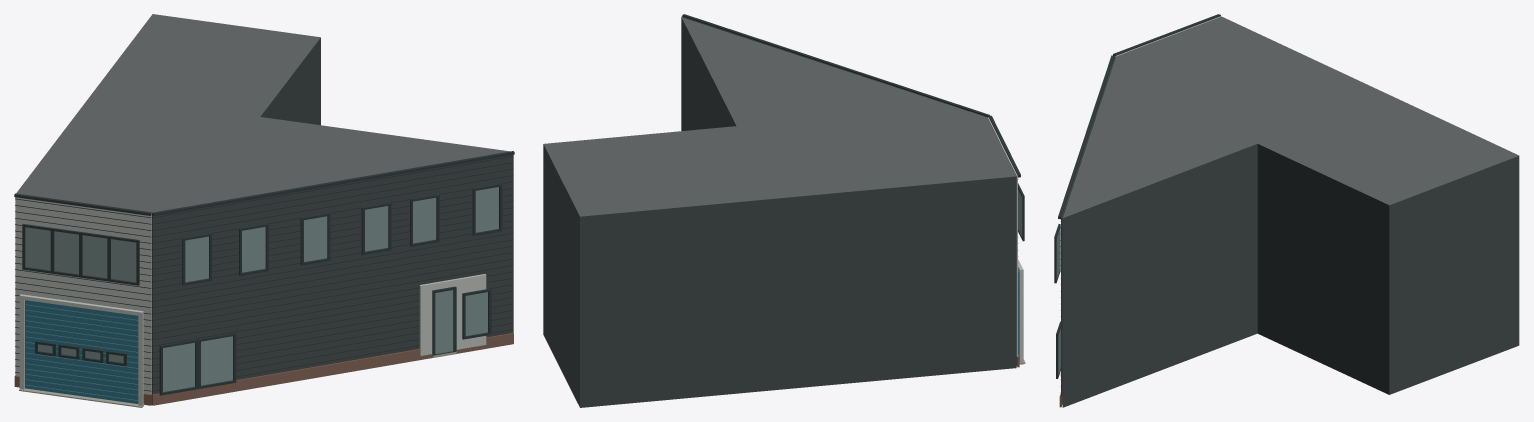
Rendered from haparandaweg-11.glb.
3 views of the same model, side by side, from view 1: azimuth 30°, elevation 25°; view 2: azimuth 150°, elevation 25°; view 3: azimuth 270°, elevation 25° (orthographic).
Visible parts, largest first — view 1: haparandaweg-11; view 2: haparandaweg-11; view 3: haparandaweg-11.
Boxes of the visible parts, bbox=[...] form: haparandaweg-11: bbox=[14, 14, 514, 407]; haparandaweg-11: bbox=[543, 14, 1025, 407]; haparandaweg-11: bbox=[1054, 14, 1519, 407].
Size of the model in its own units: 16.42 by 7.23 by 15.93.
